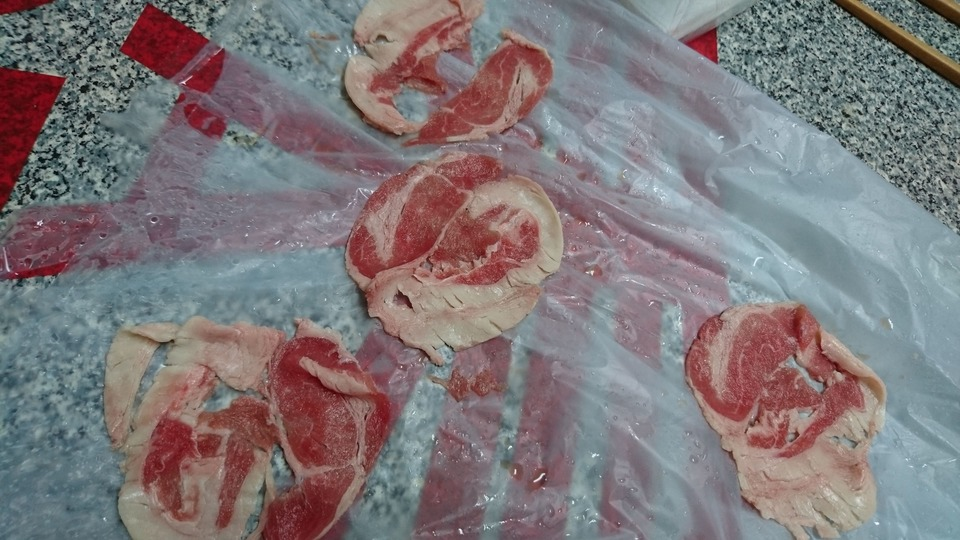restructured meat: (95, 309, 391, 540), (341, 149, 582, 377), (674, 282, 885, 540), (346, 1, 584, 149)
